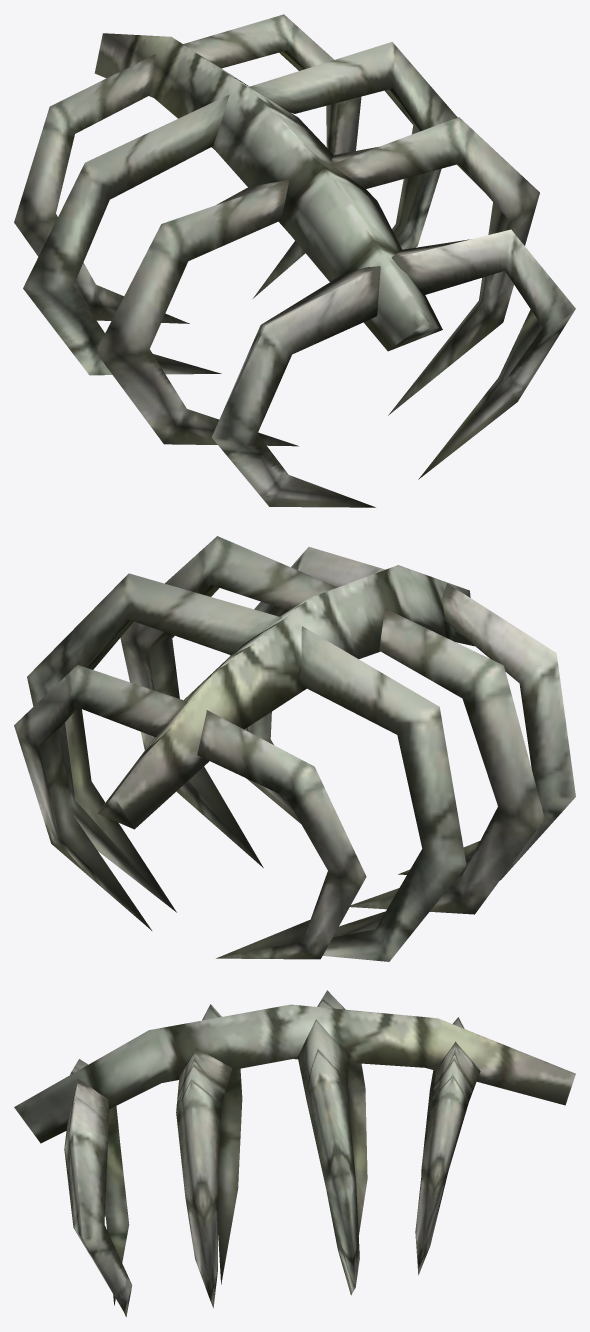
The model's file is dragonspawn_bones_01.fbx.
3 views of the same model, one above another, from view 1: azimuth 30°, elevation 25°; view 2: azimuth 150°, elevation 25°; view 3: azimuth 270°, elevation 25° (orthographic). The views are drawn at different scales.
Visible parts, largest first — view 1: dragonspawn_bones_mat; view 2: dragonspawn_bones_mat; view 3: dragonspawn_bones_mat.
Part boxes in pixels (bbox=[...]): dragonspawn_bones_mat: bbox=[14, 14, 575, 507]; dragonspawn_bones_mat: bbox=[14, 536, 575, 961]; dragonspawn_bones_mat: bbox=[14, 990, 575, 1316].
Size of the model in its own units: 1.98 by 1.53 by 2.65.
